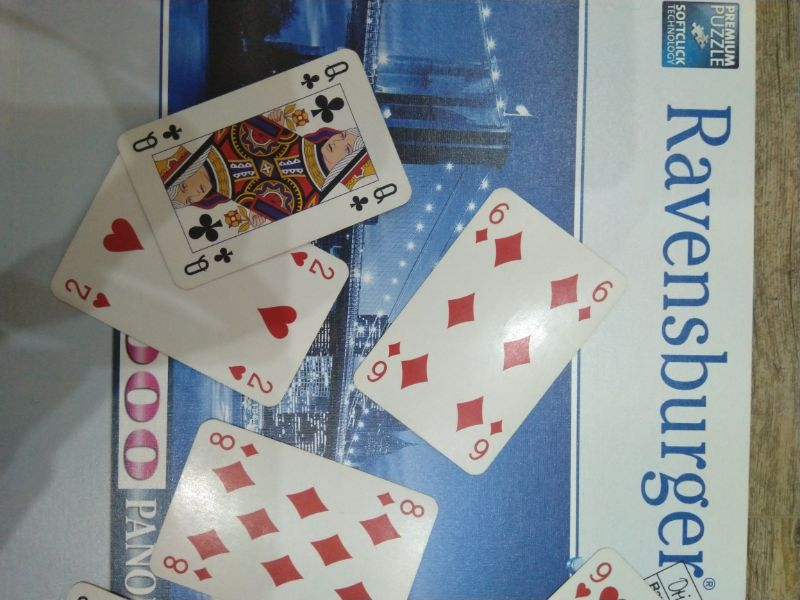2h: (60, 272, 116, 313), (286, 248, 343, 287), (226, 361, 279, 397)
6d: (574, 270, 620, 331), (466, 415, 510, 470), (467, 196, 512, 248), (362, 337, 406, 389)
8d: (156, 548, 214, 585), (374, 484, 428, 522), (206, 426, 264, 461)
9h: (569, 554, 616, 600)
Qc: (181, 242, 240, 284), (295, 56, 354, 93), (128, 121, 188, 155), (346, 181, 404, 216)
